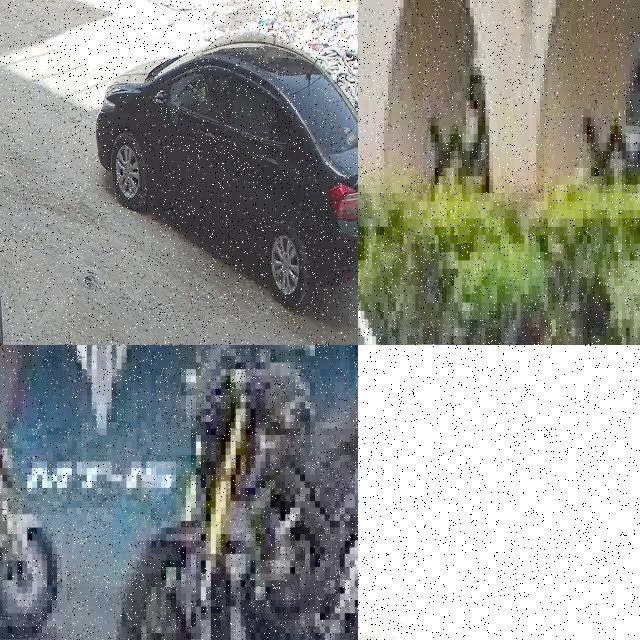bike: (111, 345, 358, 640), (358, 352, 468, 640), (0, 389, 62, 633)
car: (96, 34, 358, 310), (358, 134, 622, 345)
